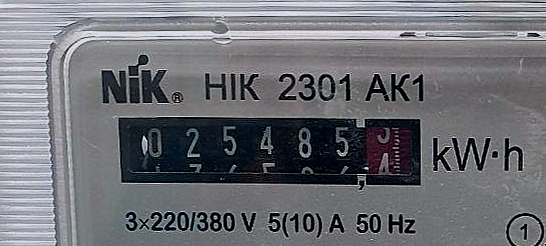0: (144, 124, 165, 159)
2: (183, 124, 203, 159)
4: (256, 122, 277, 156), (375, 149, 394, 177)
5: (331, 123, 352, 160), (219, 122, 239, 157)
8: (295, 122, 315, 161)
screen: (109, 107, 430, 197)
